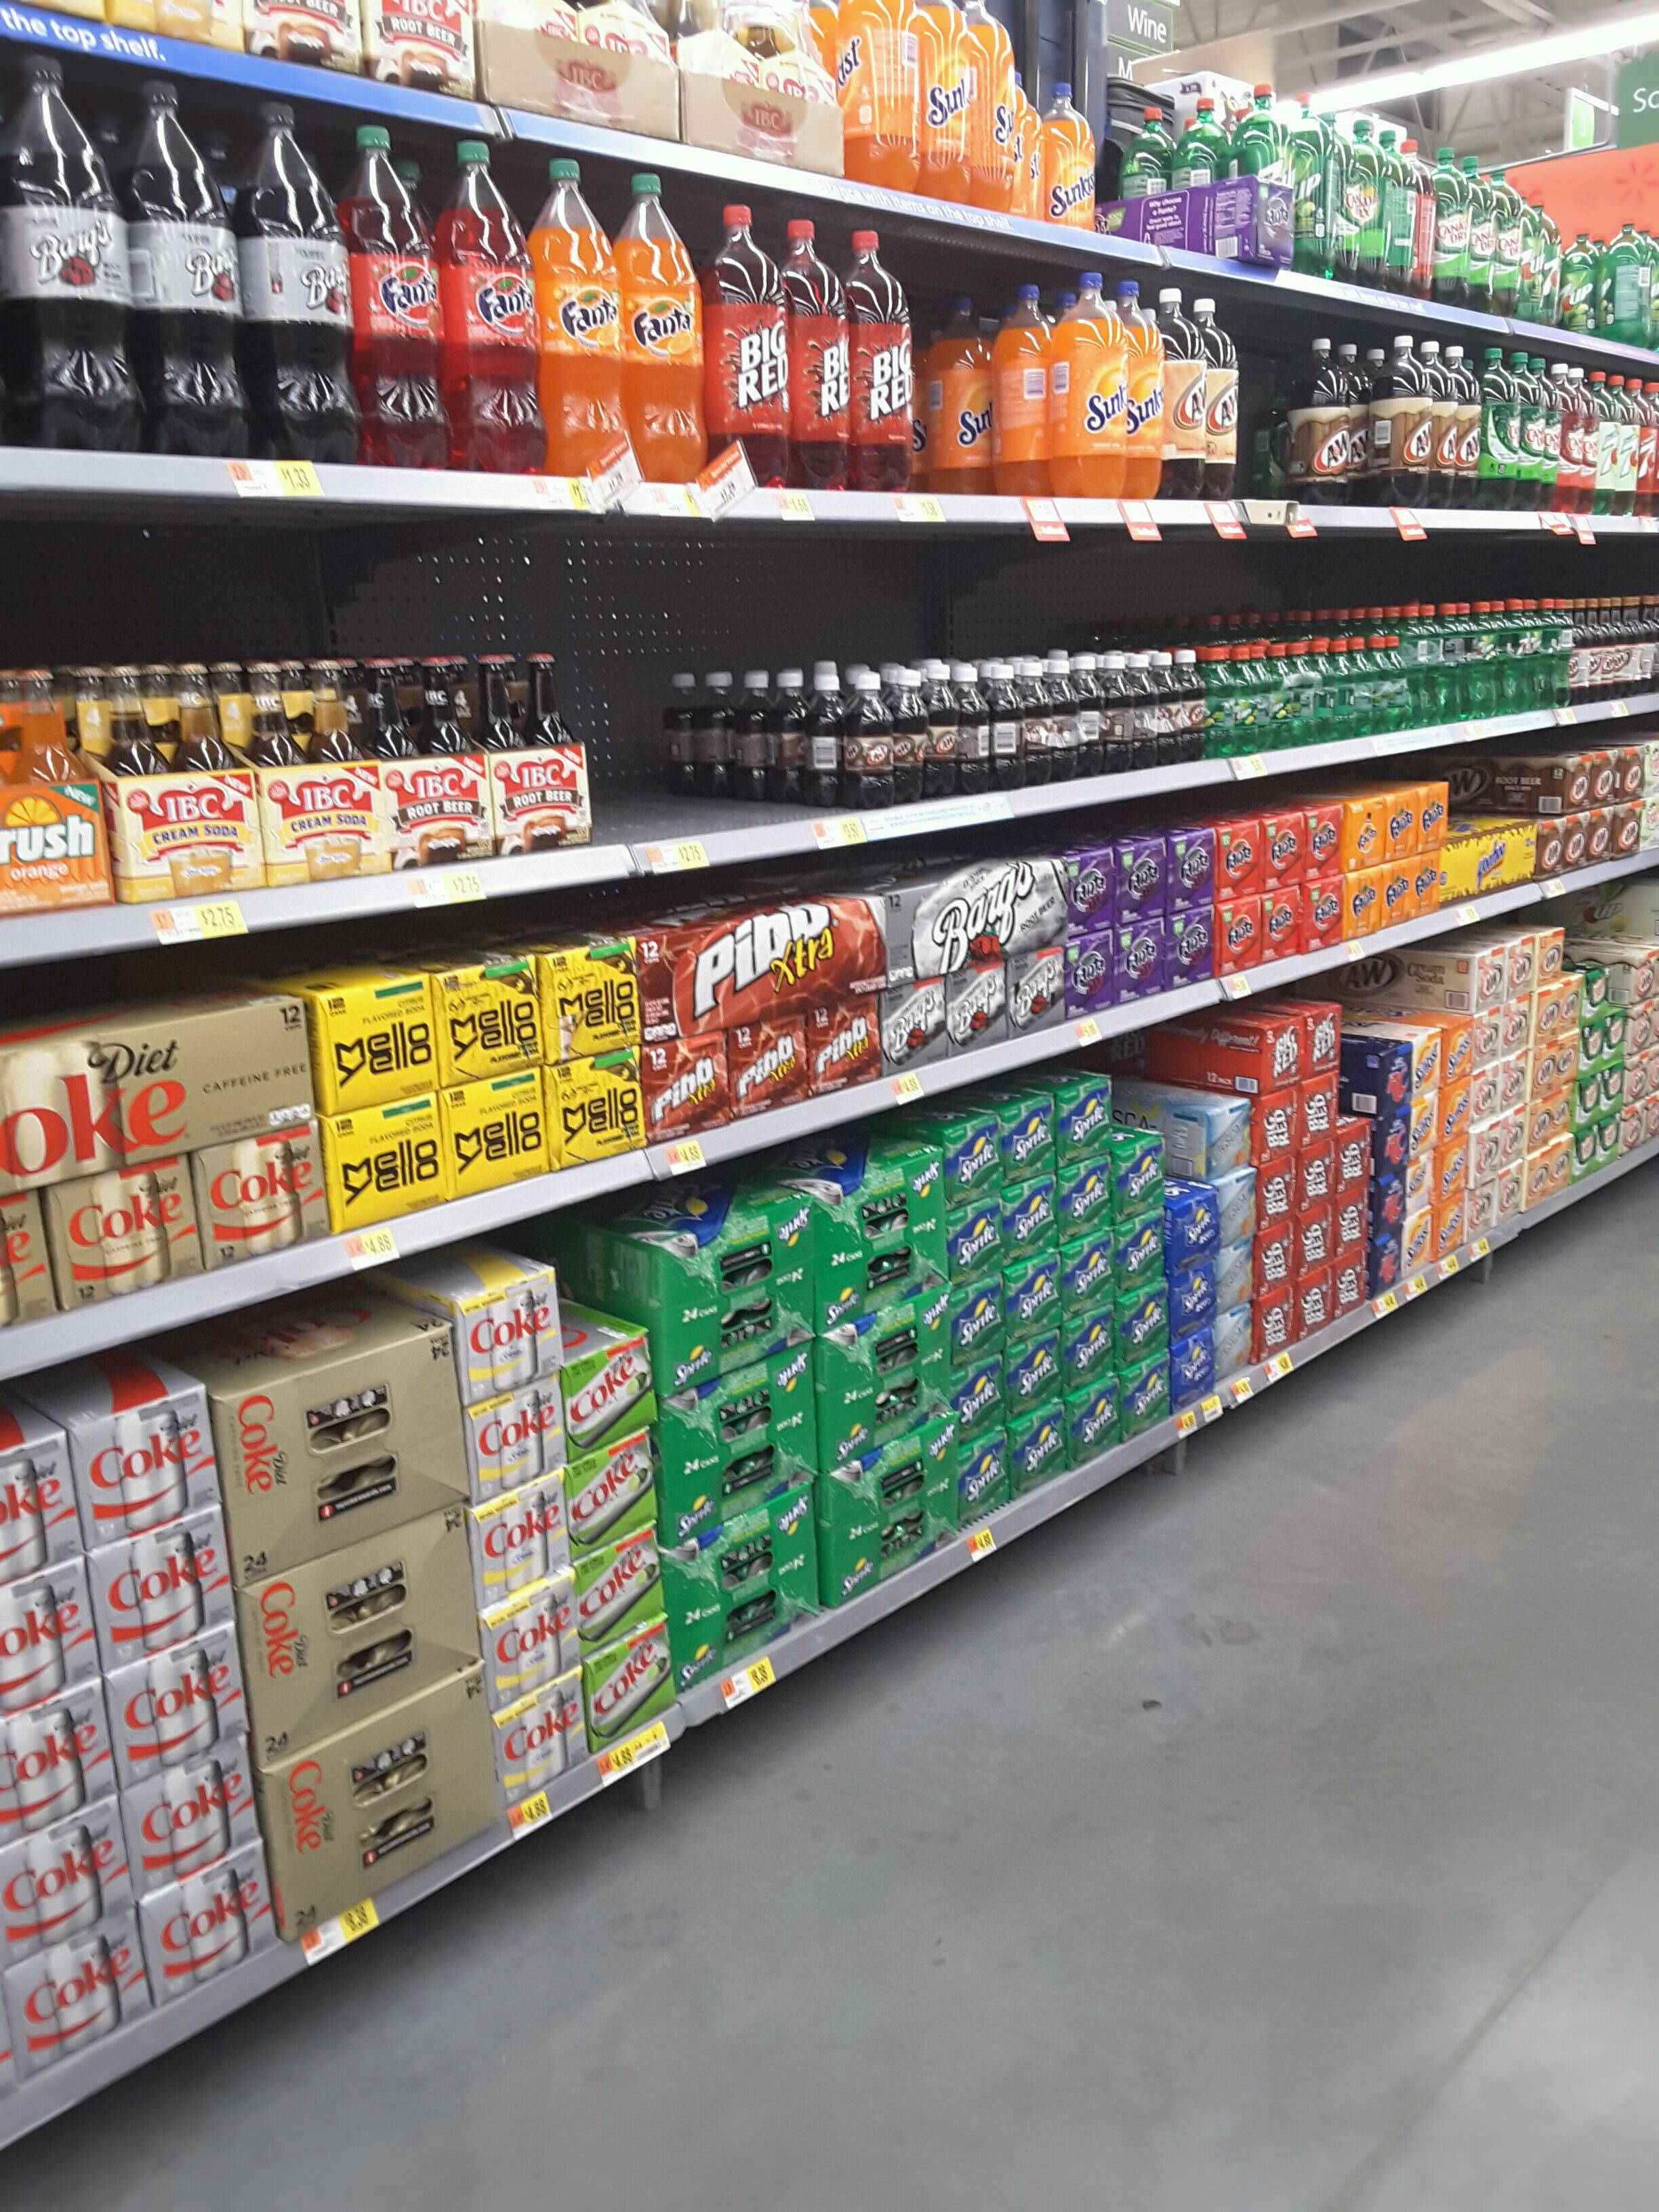Misplacement: (549, 1204, 674, 1768), (1446, 765, 1537, 907)
Out-of-stock: (589, 660, 845, 850)
